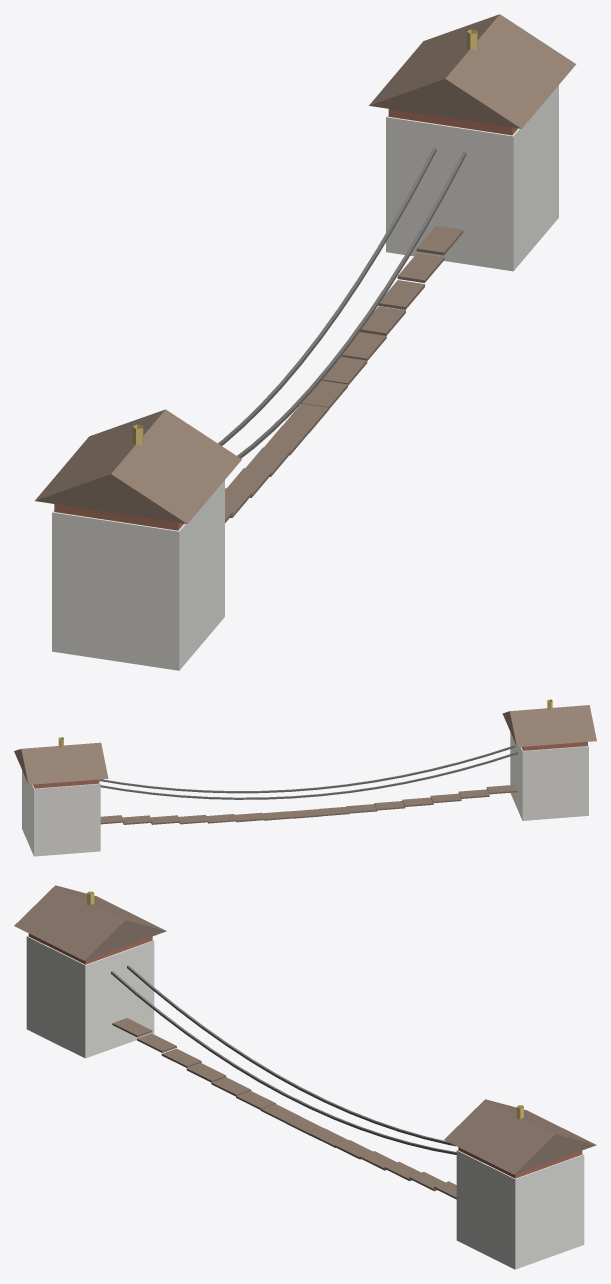
Rendered from isuna-far.glb.
3 renders of one model, top to bottom at view 1: azimuth 30°, elevation 25°; view 2: azimuth 150°, elevation 25°; view 3: azimuth 270°, elevation 25°, orthographic. The views are drawn at different scales.
Visible parts, largest first — view 1: isuna_far; view 2: isuna_far; view 3: isuna_far.
Boxes of the visible parts, x1=… form: isuna_far: x1=35, y1=14, x2=576, y2=670; isuna_far: x1=14, y1=699, x2=596, y2=856; isuna_far: x1=14, y1=885, x2=596, y2=1269.
Size of the model in its own units: 50.98 by 11.84 by 45.07.
